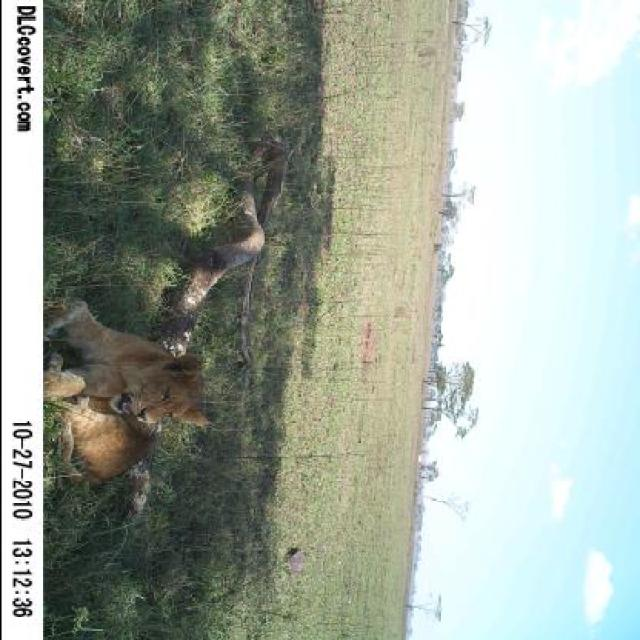Lion: (39, 274, 226, 495)
